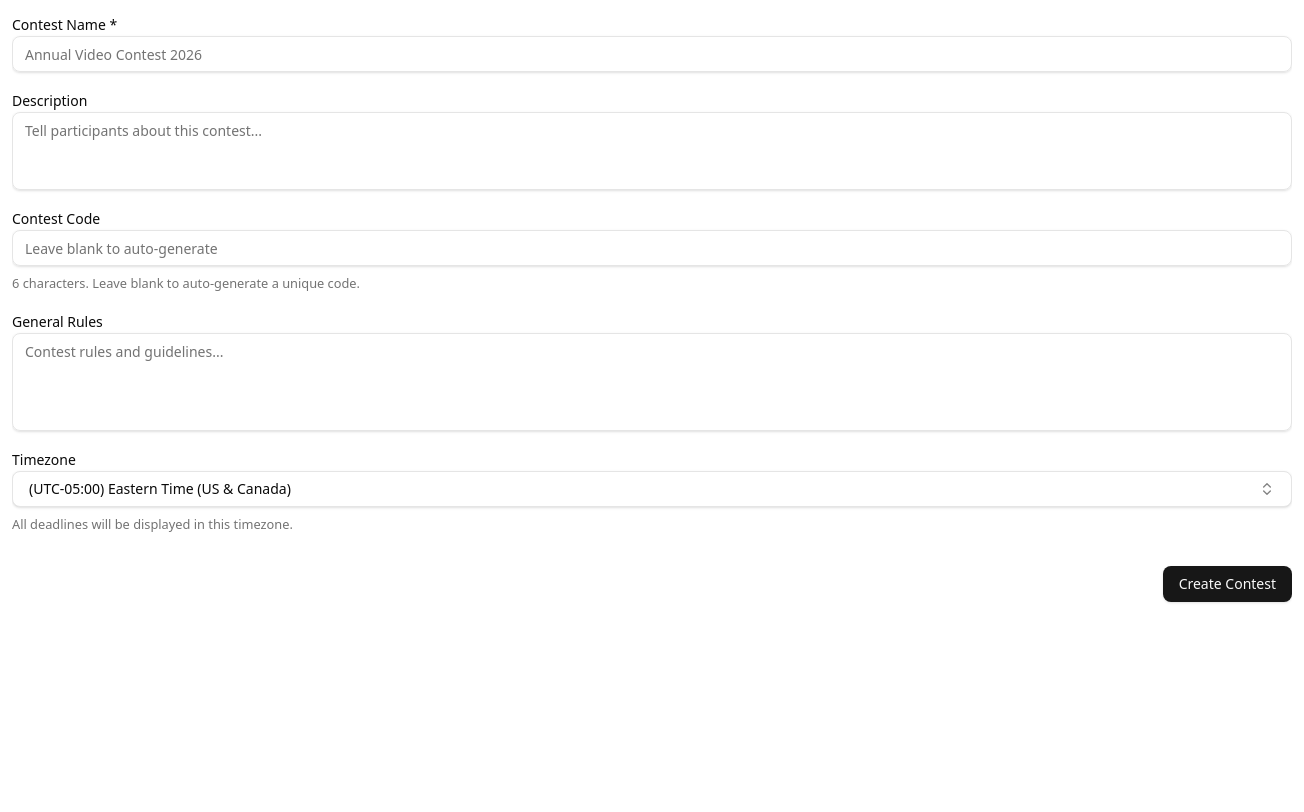
Test: CreateContestForm › disables submit button while submitting
Type "Test Contest" into the field labelled "Contest Name *".
click(652, 54); type("Test Contest")  # box [12,36,1292,72]
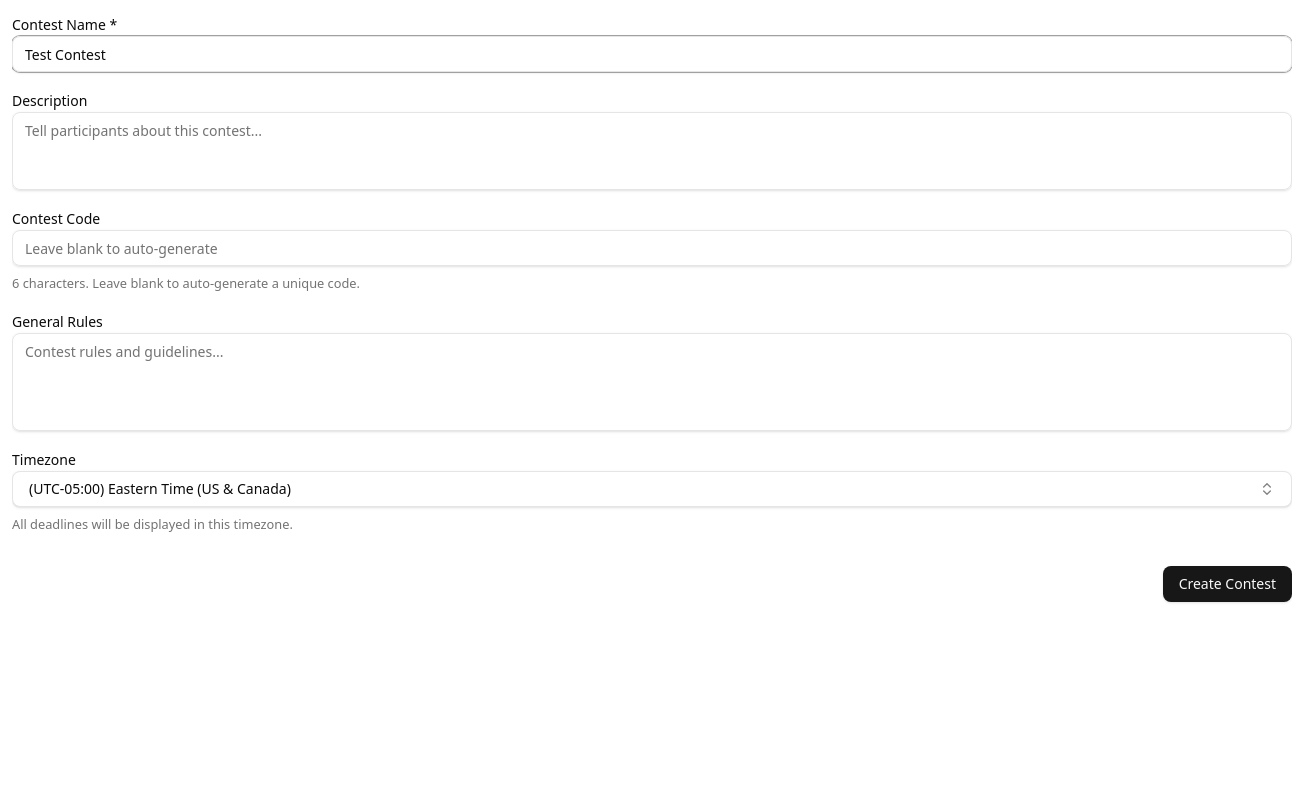
Click the button "Create Contest".
click(1227, 584)  # box [1163,566,1292,602]
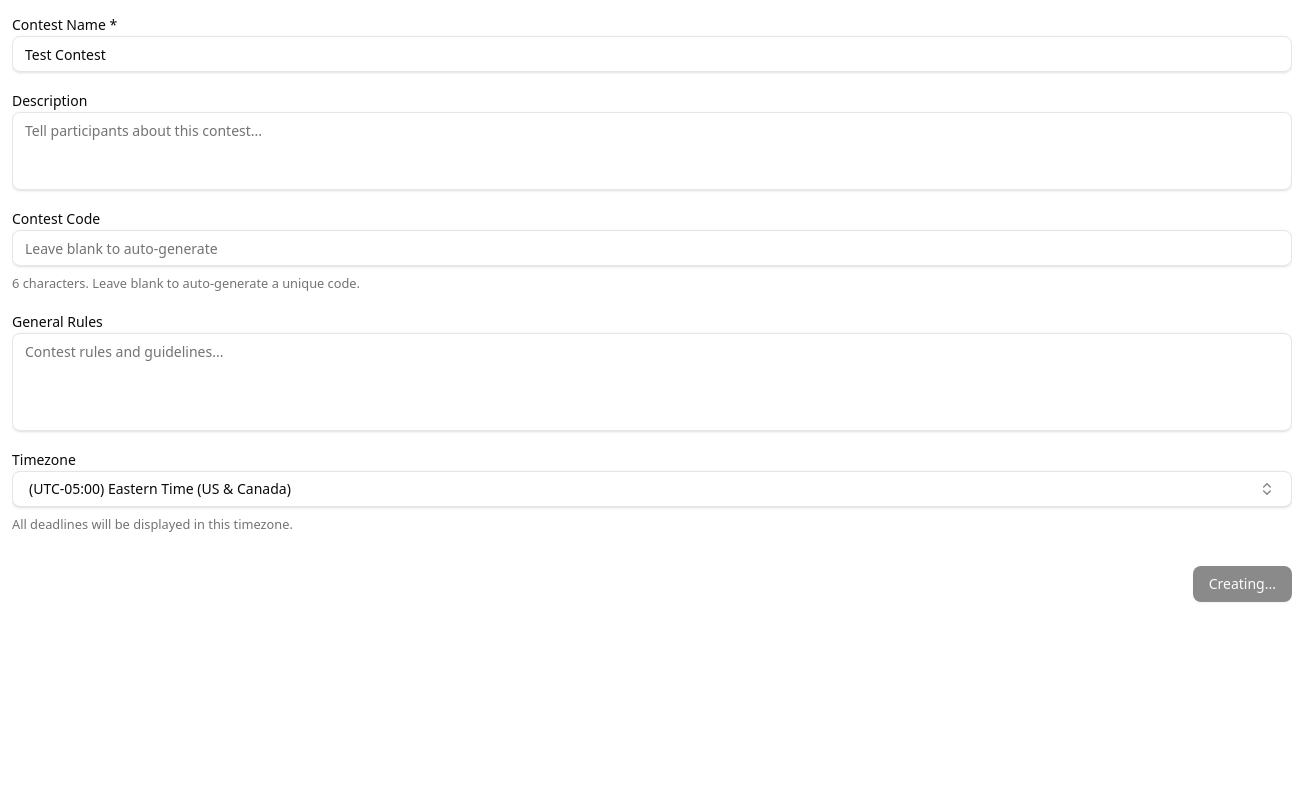
Now the button named "create contest" is disabled, box [1193,566,1292,602]
